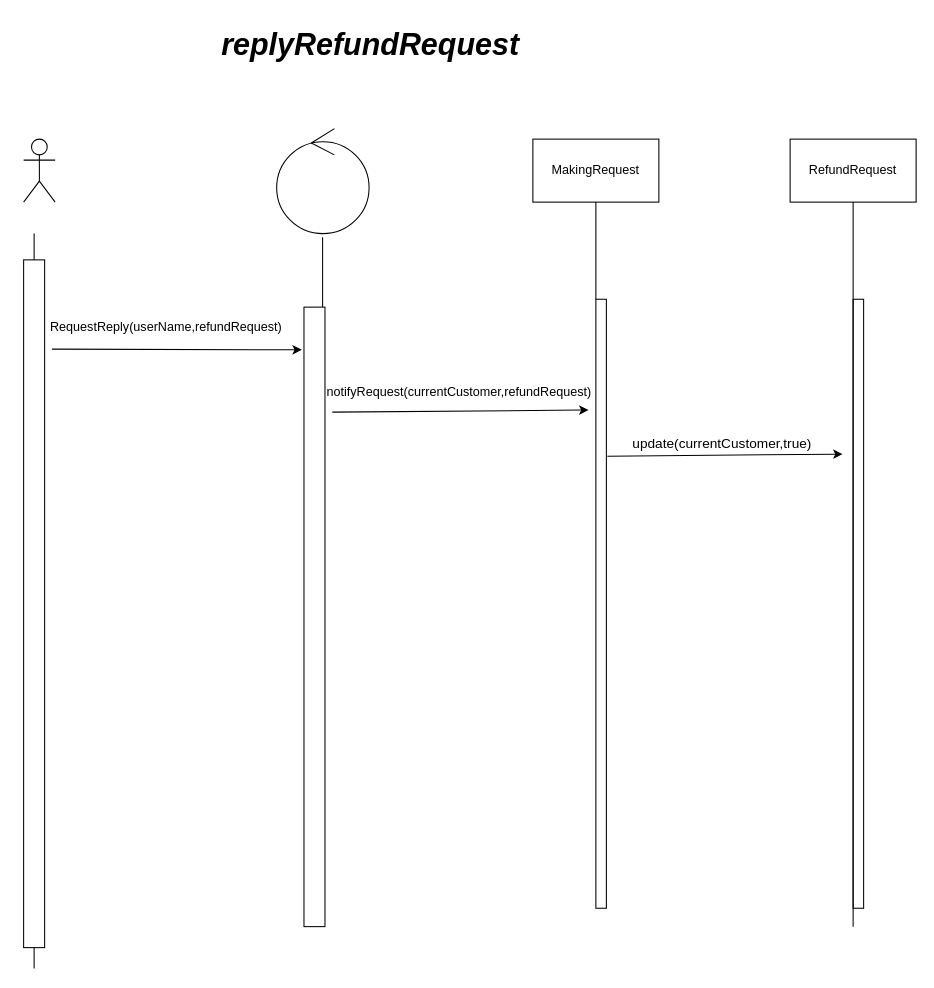
This 934x988 diagram has some shape labels left out. Each missing label, with the box of its shape:
Admin: (23, 138, 55, 202)
Admin Refund Request Controller: (276, 128, 369, 234)
